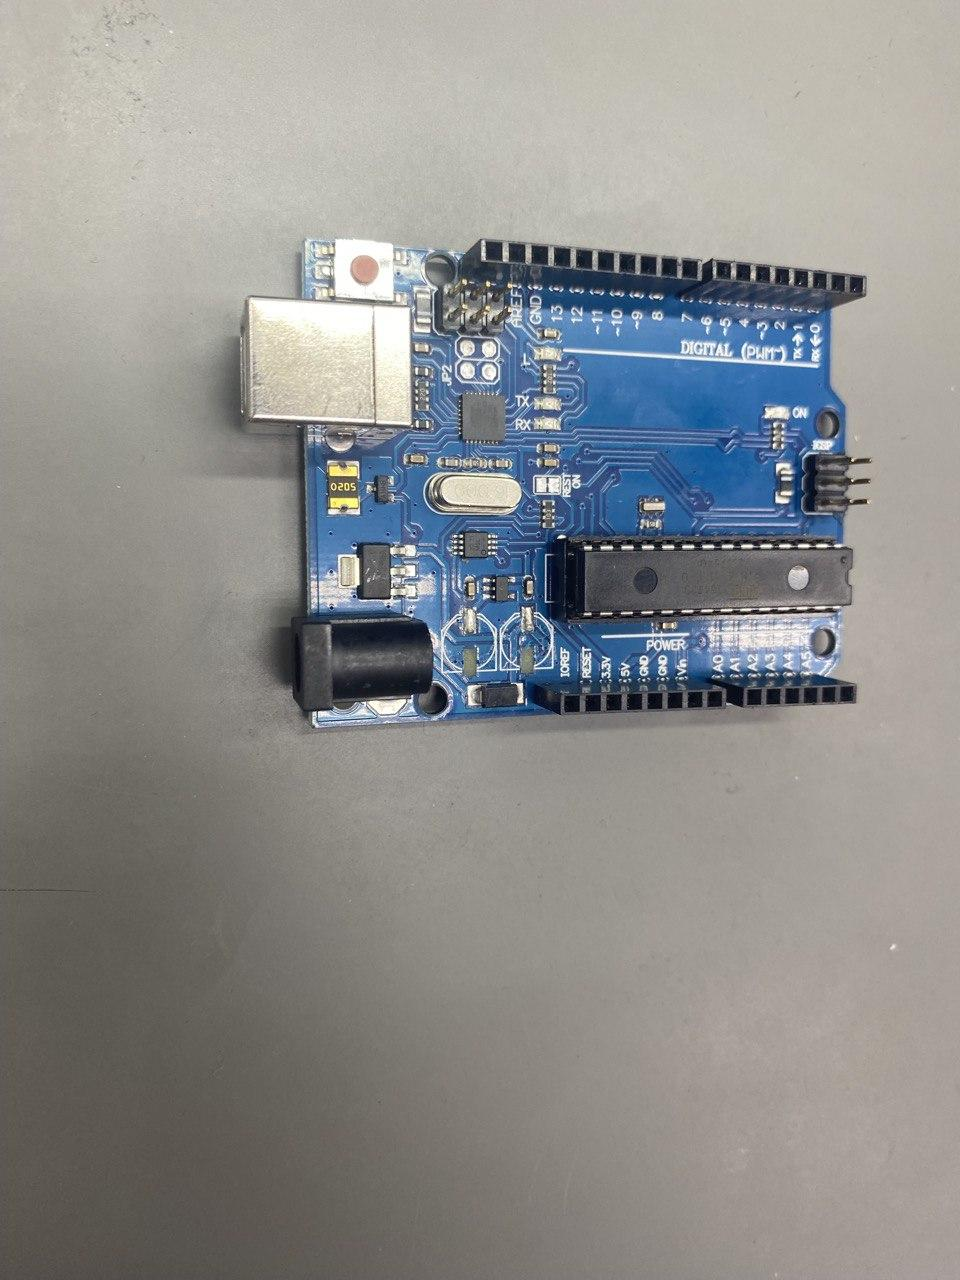ATmega328 chip: (554, 535, 853, 623)
Arduino board: (237, 238, 873, 730)
USB: (240, 295, 412, 427)
pins: (460, 238, 702, 294), (679, 258, 867, 311), (534, 680, 727, 715), (706, 677, 857, 708)
resistor: (415, 380, 430, 411), (542, 364, 557, 394), (542, 500, 555, 528), (773, 422, 786, 449)
